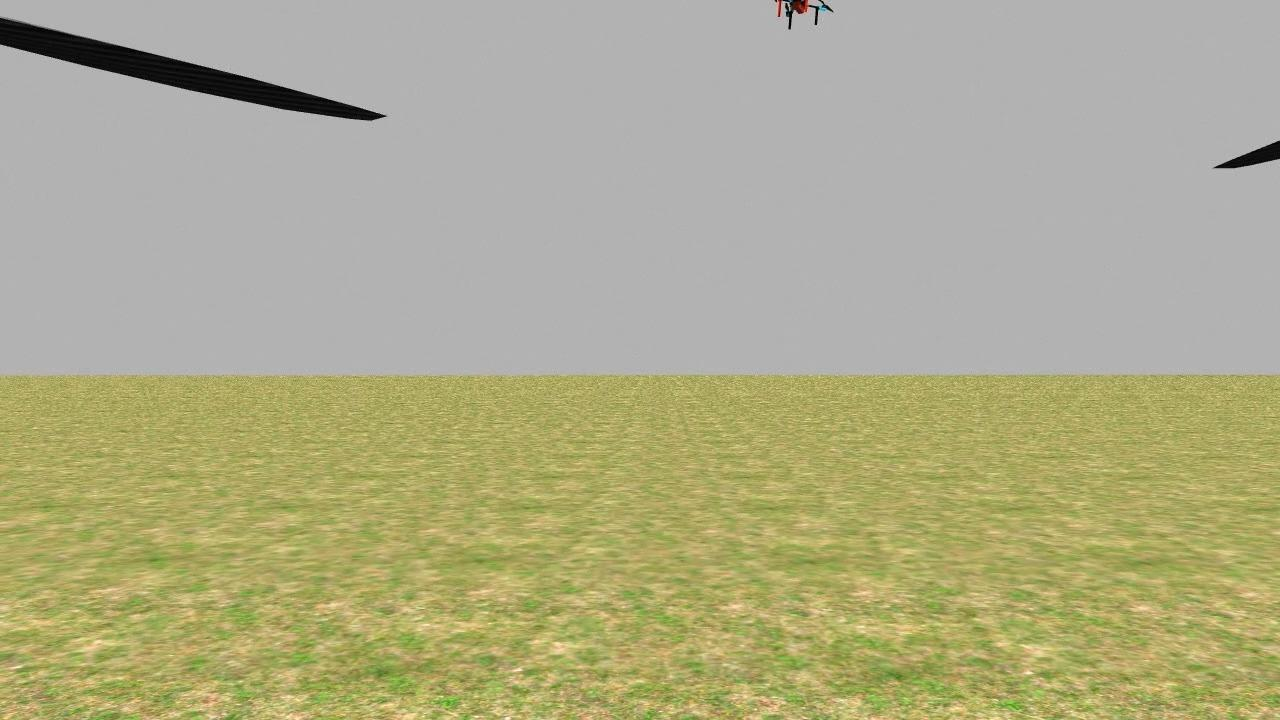UAV: (763, 0, 839, 33)
